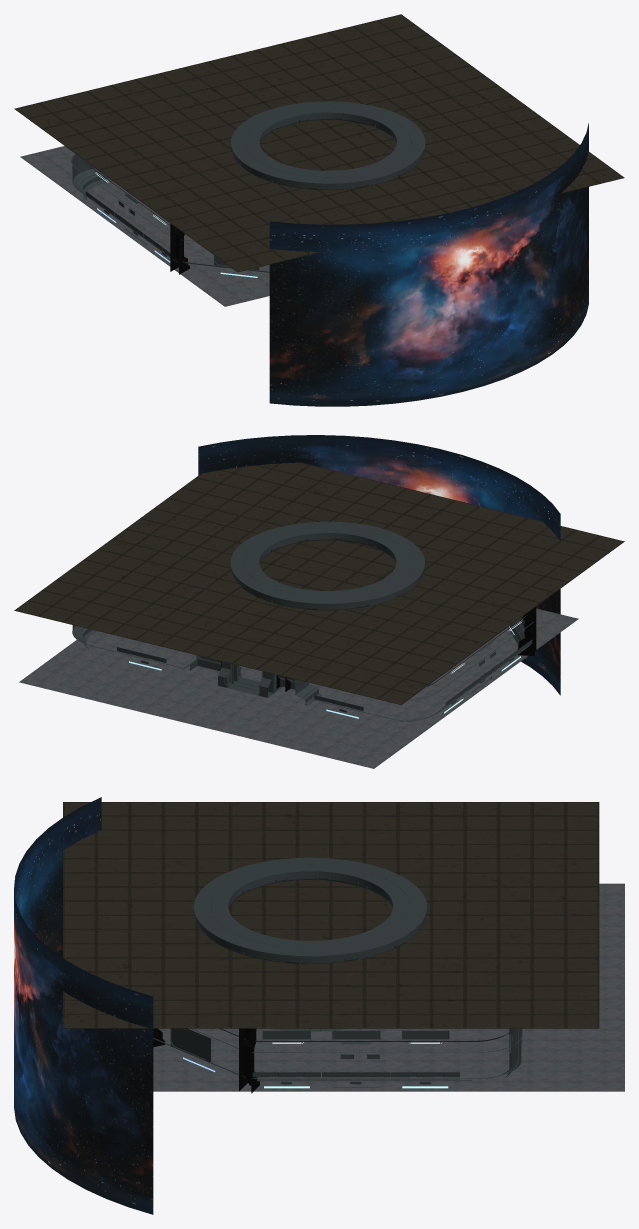
File: scifi-transformed.glb
The picture shows the model from 3 angles, top to bottom: view 1: azimuth 30°, elevation 25°; view 2: azimuth 150°, elevation 25°; view 3: azimuth 270°, elevation 25°; orthographic projection. The views are drawn at different scales.
Parts seen in each view (by area): view 1: Plane.032, Circle.022, Ob_Circular1_1_Cube.003, Plane.033, SM_Wall_Angle_IN_1x4.003; view 2: Plane.032, Plane.033, Circle.022, Ob_Circular1_1_Cube.003, SM_Wall_Angle_IN_1x4.003, SM_Wall_Window_Inset_8x4.003; view 3: Plane.032, Circle.022, Plane.033, Ob_Circular1_1_Cube.003, SM_Wall_Angle_IN_1x4.003, SM_Wall_Window_Inset_8x4.003.
Boxes of the visible parts, x1,y1,x2,y2 form: Plane.032: (14,14,624,272); Circle.022: (269,123,588,406); Ob_Circular1_1_Cube.003: (231,101,425,189); Plane.033: (20,146,269,306); SM_Wall_Angle_IN_1x4.003: (71,153,189,274); Plane.032: (14,462,624,704); Plane.033: (19,608,578,768); Circle.022: (198,435,560,695); Ob_Circular1_1_Cube.003: (230,521,424,610); SM_Wall_Angle_IN_1x4.003: (72,607,536,721); SM_Wall_Window_Inset_8x4.003: (188,617,524,700); Plane.032: (63,802,599,1028); Circle.022: (14,797,153,1214); Plane.033: (153,883,624,1091); Ob_Circular1_1_Cube.003: (194,857,427,963); SM_Wall_Angle_IN_1x4.003: (153,1028,522,1093); SM_Wall_Window_Inset_8x4.003: (153,1028,245,1077).
Bounding box in the file's own units: 31.05 × 13.89 × 35.23.
Materials: 10 (7 with a texture image).
